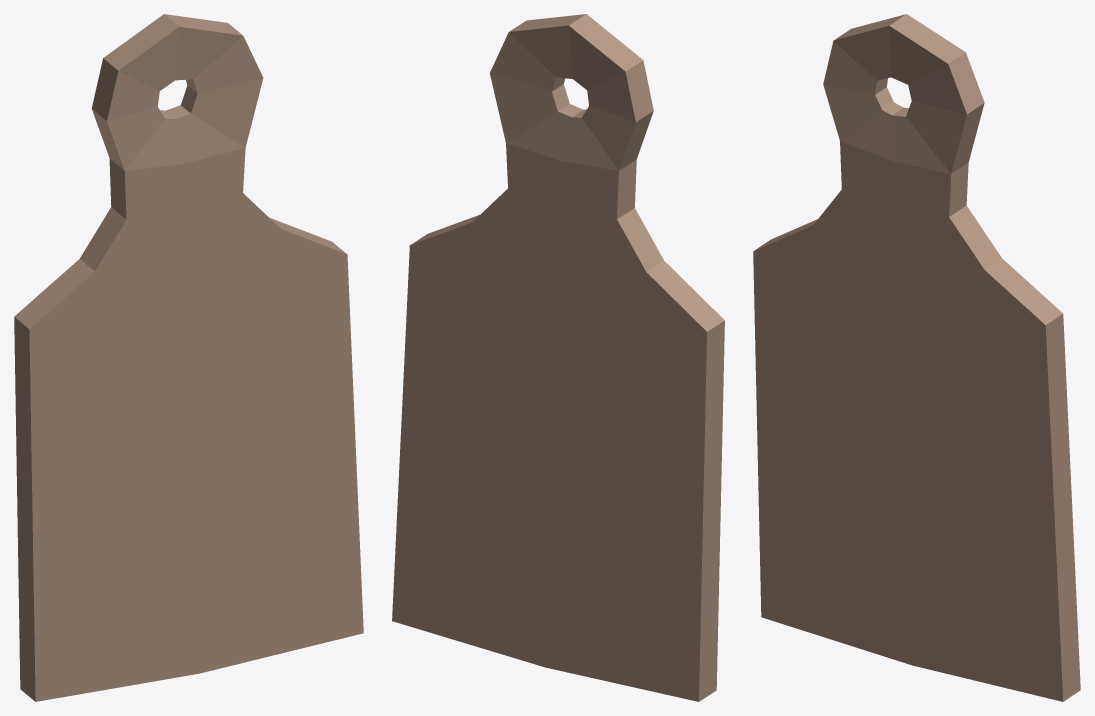
File: Board.fbx
3 renders of one model, left to right at view 1: azimuth 30°, elevation 25°; view 2: azimuth 150°, elevation 25°; view 3: azimuth 330°, elevation 25°, orthographic. The views are drawn at different scales.
Parts seen in each view (by area): view 1: Board; view 2: Board; view 3: Board.
Boxes of the visible parts, x1,y1,x2,y2 form: Board: (14,14,363,701); Board: (392,14,724,701); Board: (753,14,1080,701).
Size of the model in its own units: 28.52 by 3.98 by 54.32.
